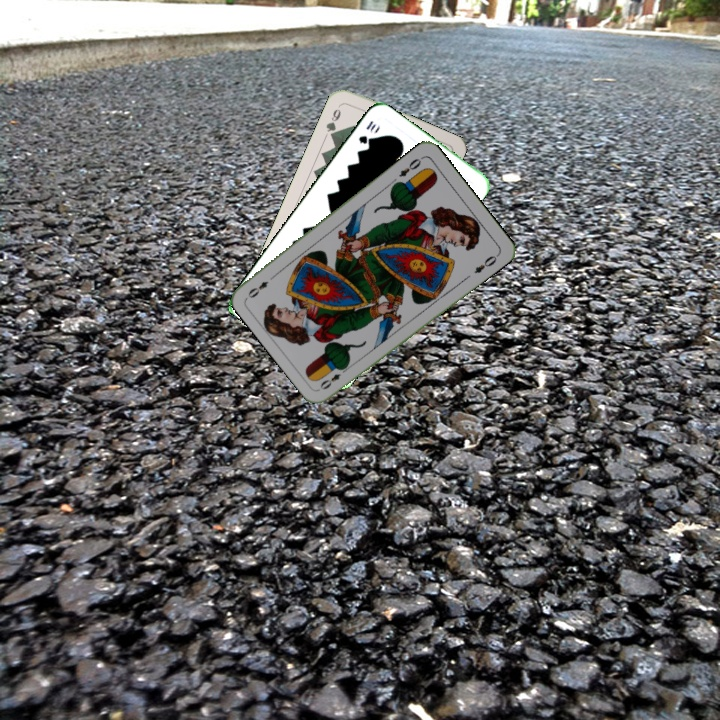EO: (316, 362, 351, 392), (395, 153, 426, 180)
G10: (354, 116, 378, 147)
G9: (322, 100, 344, 141)
